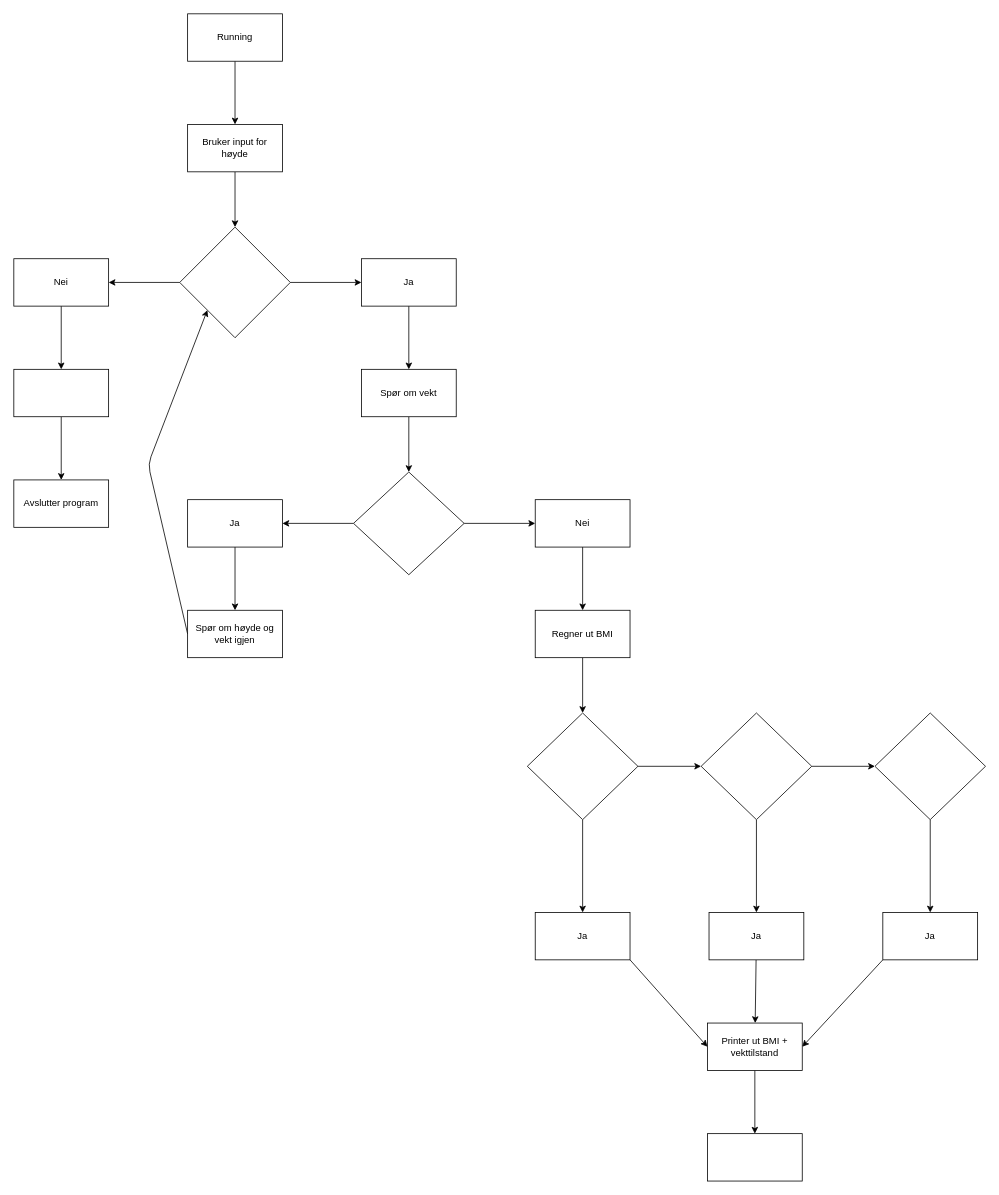
Image size: 999x1195. Some labels were removed from this diagram. Each missing label, with the centre of its shape:
Avslutter programmet: pixel 754 1157
Er høyde eller vekt desimaltall?: pixel 408 523
Er personen normalvektig?: pixel 756 766
Er personen overvektig?: pixel 930 766
Er personen undervektig?: pixel 582 766
Skriver ut "Takk for nå": pixel 61 393
Står det noe i høyden?: pixel 234 282
